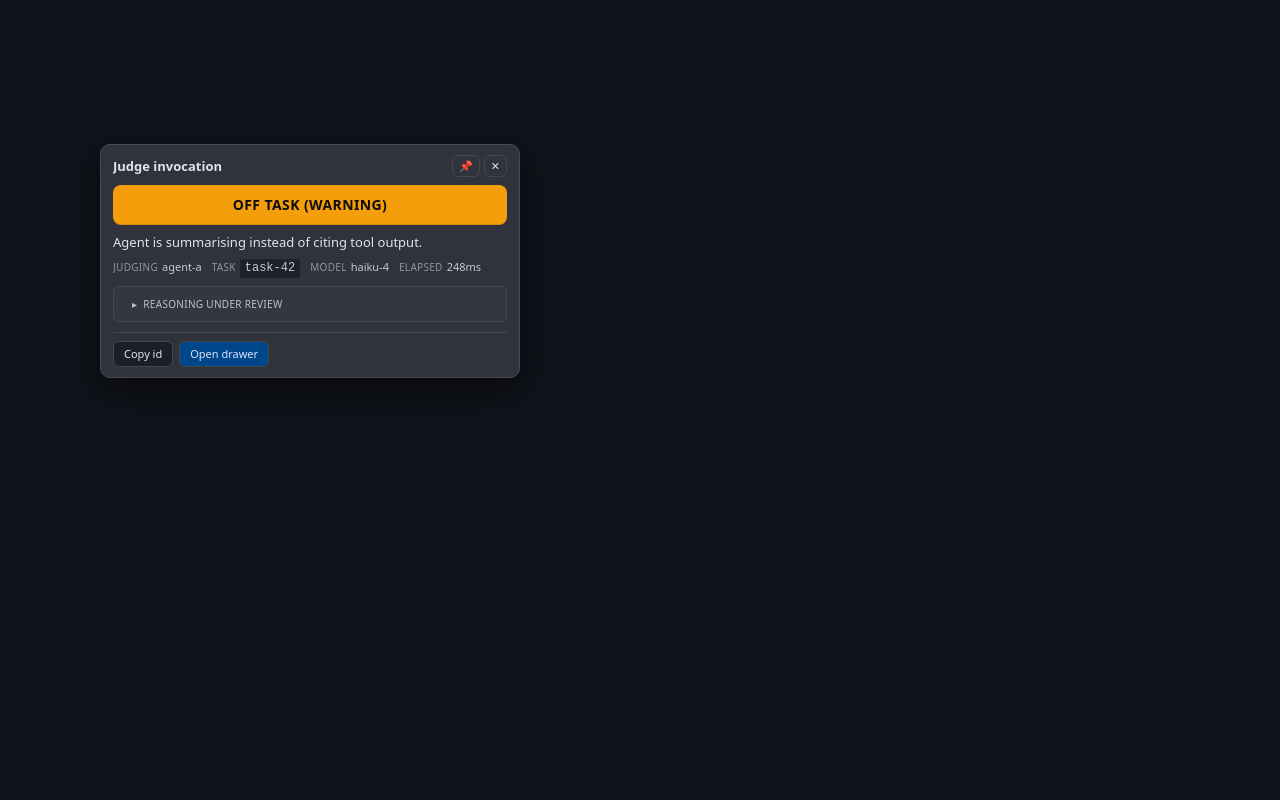
Scenario: <SpanPopover /> — judge span routing › renders the input-preview section collapsed, expandable on click
This screenshot has width=1280, height=800.
Click the button with test id "judge-popover-input-toggle" at (213, 304), box [120, 291, 500, 317]
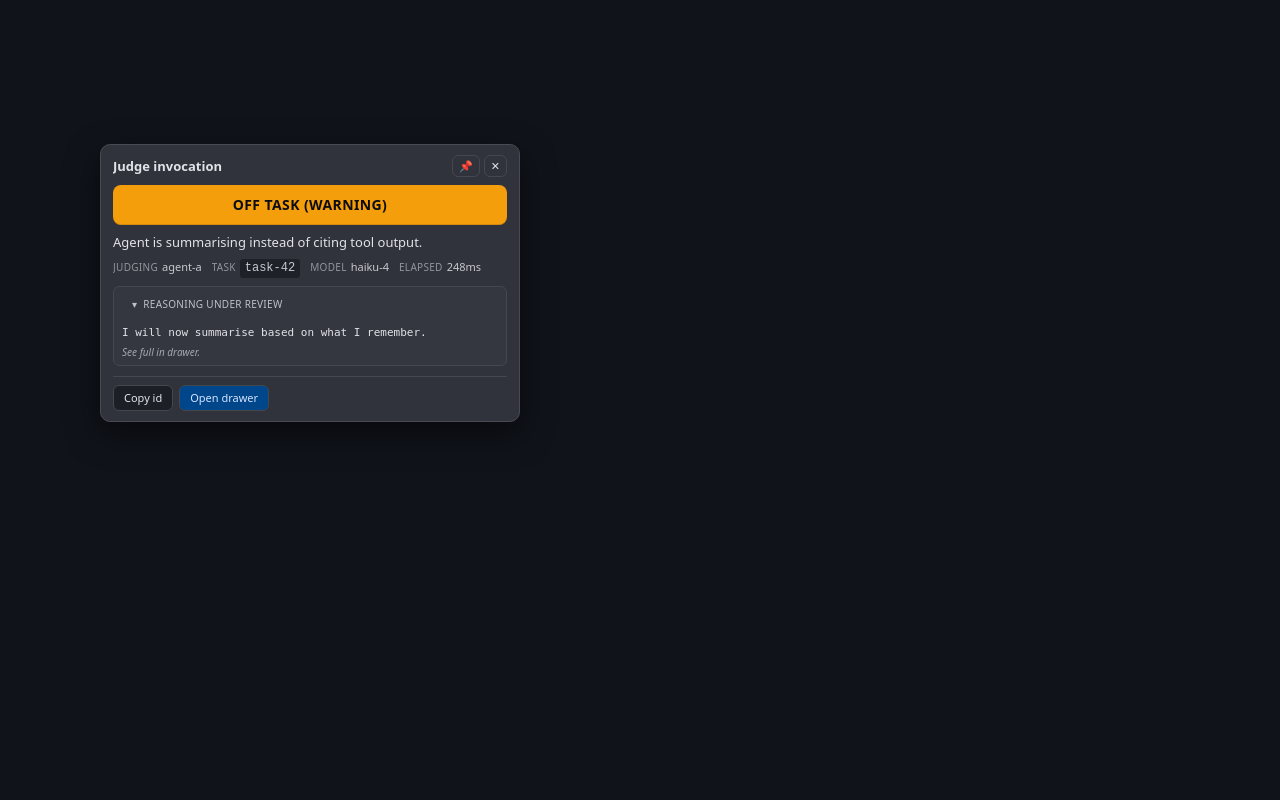
Result: the text with test id "judge-popover-input-body" shows "summarise" at [122, 326, 427, 339]
